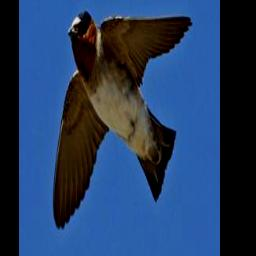Swallow: (51, 10, 194, 232)
